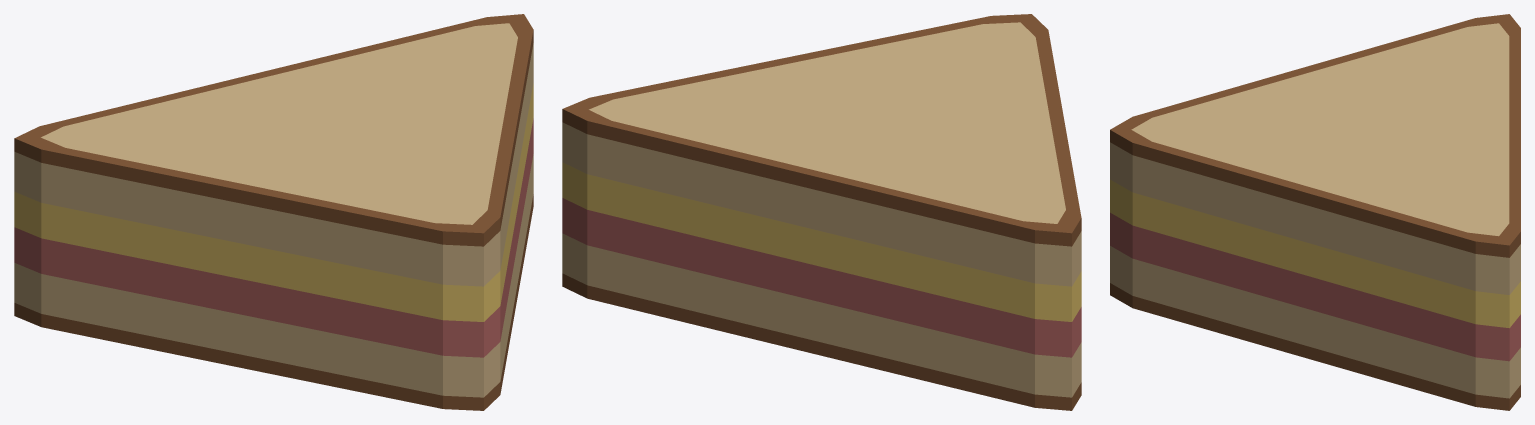
The model's file is sandwich.glb.
3 renders of one model, left to right at view 1: azimuth 30°, elevation 25°; view 2: azimuth 150°, elevation 25°; view 3: azimuth 270°, elevation 25°, orthographic. The views are drawn at different scales.
Visible parts, largest first — view 1: sandwich; view 2: sandwich; view 3: sandwich.
Part boxes in pixels (<box>): sandwich: <box>14,14,533,410</box>; sandwich: <box>562,14,1081,410</box>; sandwich: <box>1110,14,1520,410</box>.
Bounding box in the file's own units: 0.12 × 0.04 × 0.09.
